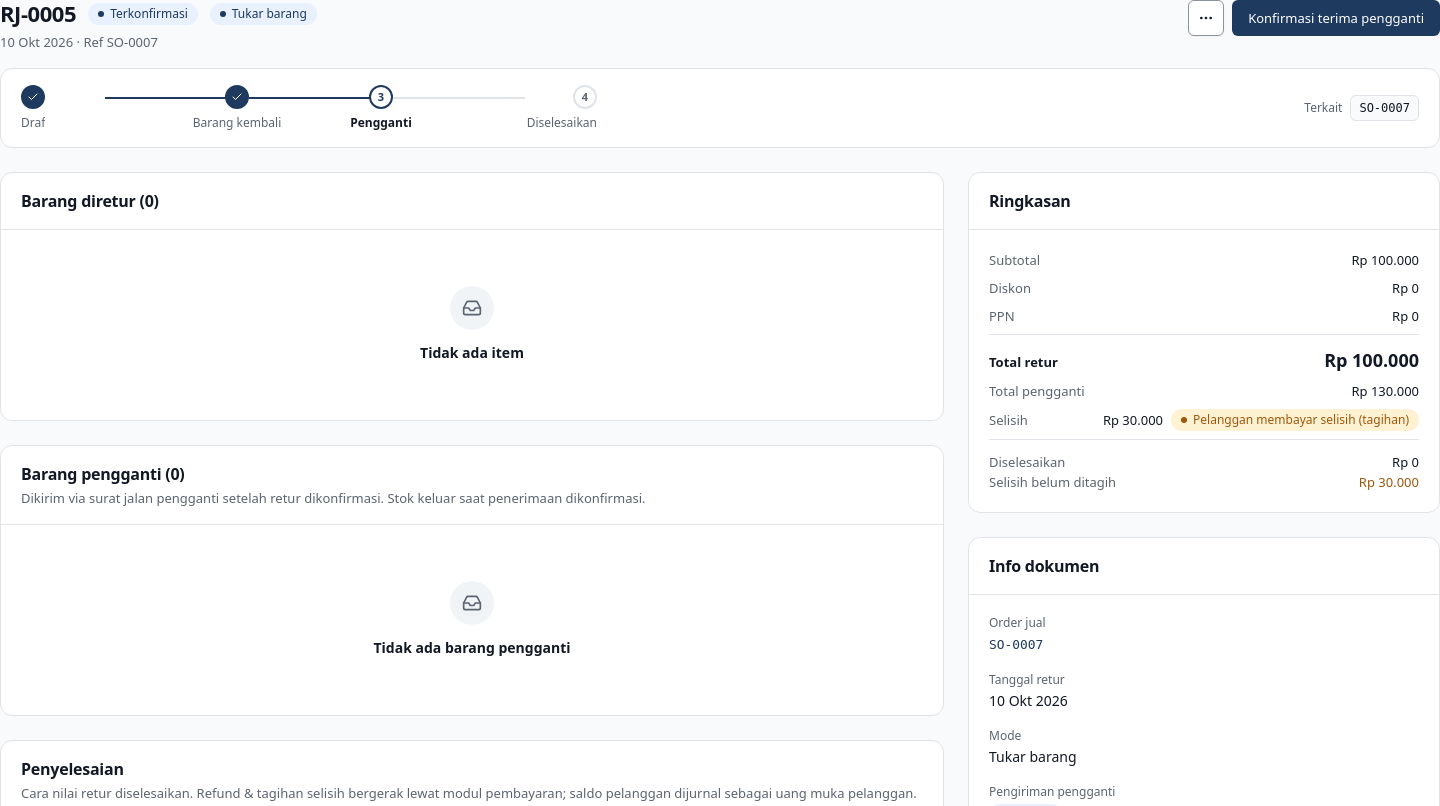
konfirmasi terima pengganti: tagih selisih saat serah (K-04e) › nominal melebihi selisih ditolak di klien dan tidak memanggil server
Click the button "Konfirmasi terima pengganti": (1336, 18) [1232,0,1439,36]
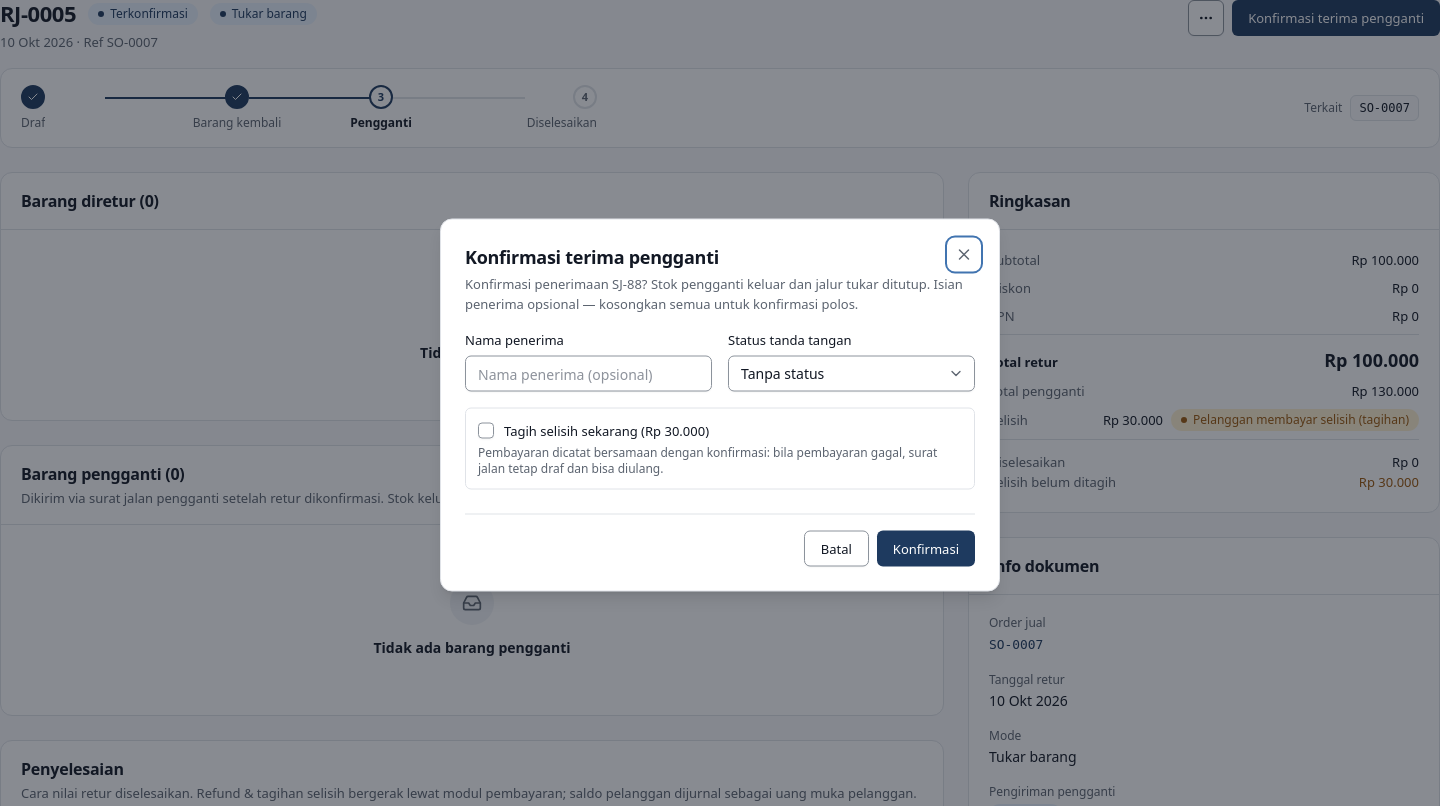
Result: the text "Konfirmasi penerimaan SJ-88" is shown at [465,274,963,312]
Click the checkbox named "Tagih selisih sekarang": (486, 430) [478,422,494,438]
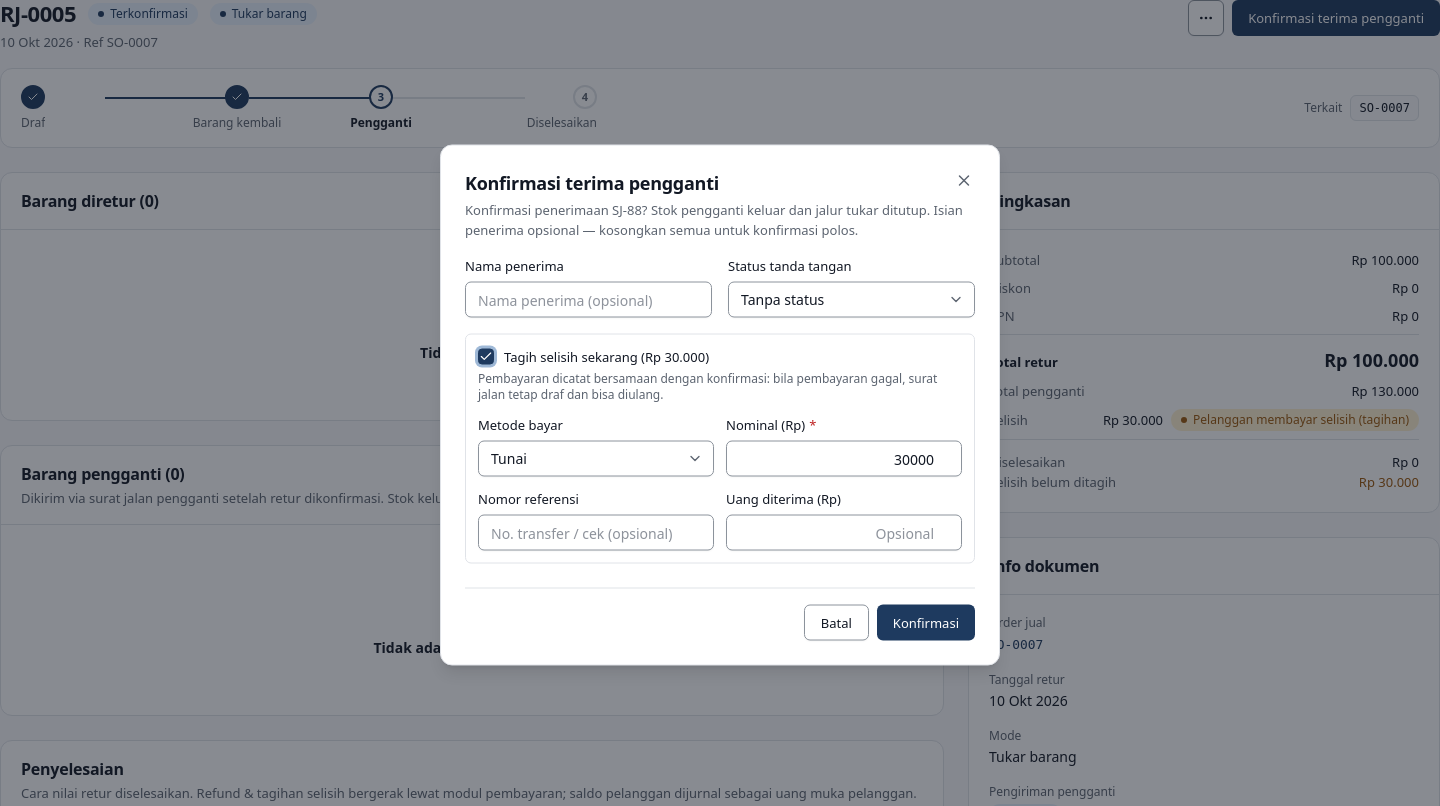
Replace the text in the number field showing "30000" with "30001": (844, 458) [726,440,962,476]
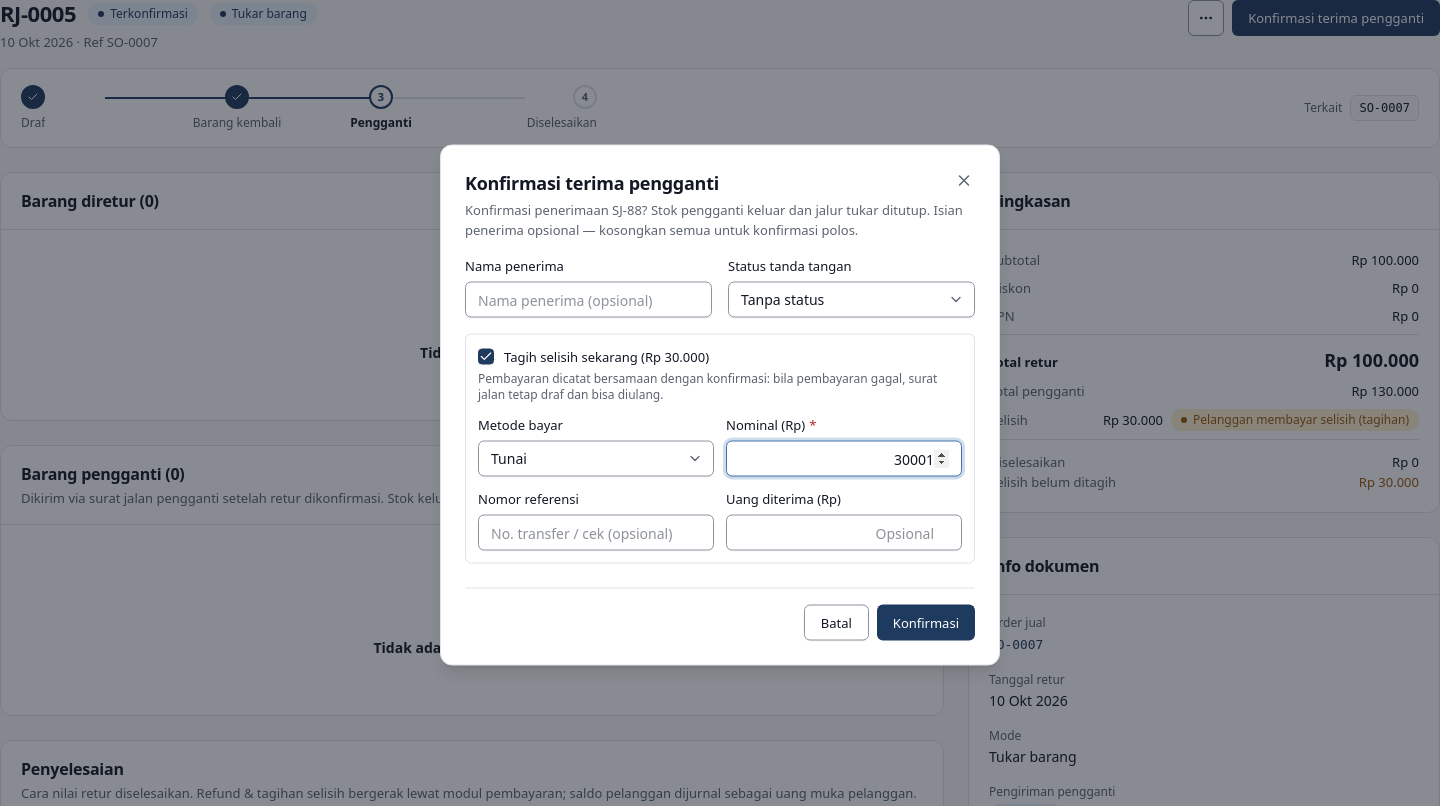
Click the button "Konfirmasi": (926, 622) [877,604,975,640]
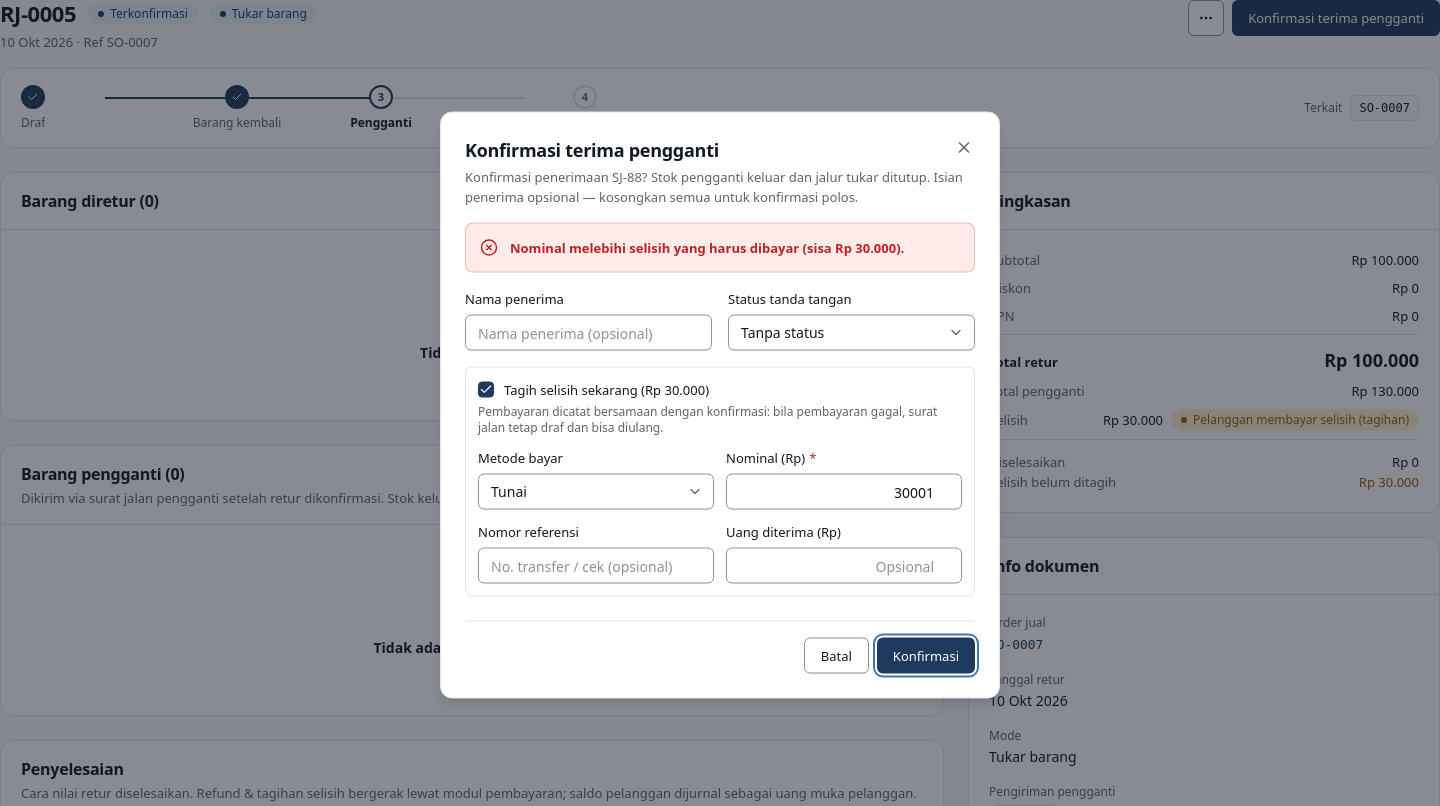
Result: the text "Nominal melebihi selisih yang harus dibayar" is shown at [510,238,904,256]
